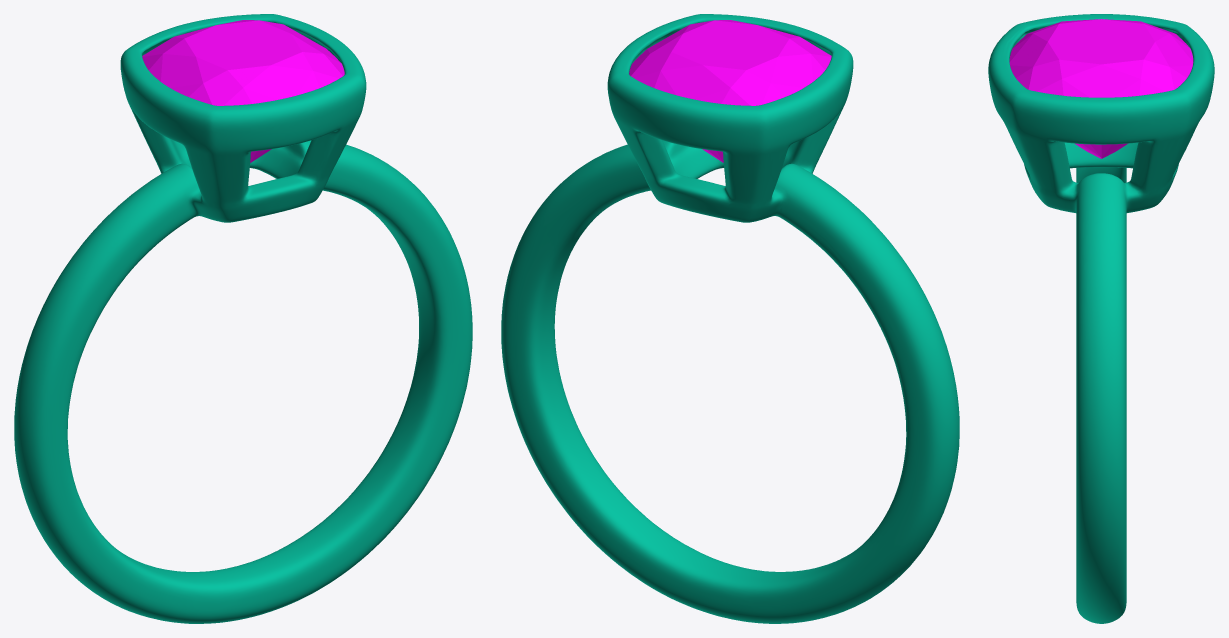
The model's file is BE1798_CU_200ct_RENDER.glb.
The picture shows the model from 3 angles, left to right: view 1: azimuth 30°, elevation 25°; view 2: azimuth 150°, elevation 25°; view 3: azimuth 270°, elevation 25°; orthographic projection. The views are drawn at different scales.
Parts seen in each view (by area): view 1: Metal 01, CS_Diamond_Cushion; view 2: Metal 01, CS_Diamond_Cushion; view 3: Metal 01, CS_Diamond_Cushion.
Boxes of the visible parts, x1,y1,x2,y2 form: Metal 01: (14, 14, 472, 623); CS_Diamond_Cushion: (142, 20, 344, 162); Metal 01: (501, 14, 959, 623); CS_Diamond_Cushion: (629, 20, 831, 162); Metal 01: (988, 14, 1214, 623); CS_Diamond_Cushion: (1009, 19, 1193, 158).
Bounding box in the file's own units: 20.29 × 24.55 × 9.02.
